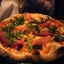pizza: (1, 11, 60, 60)
